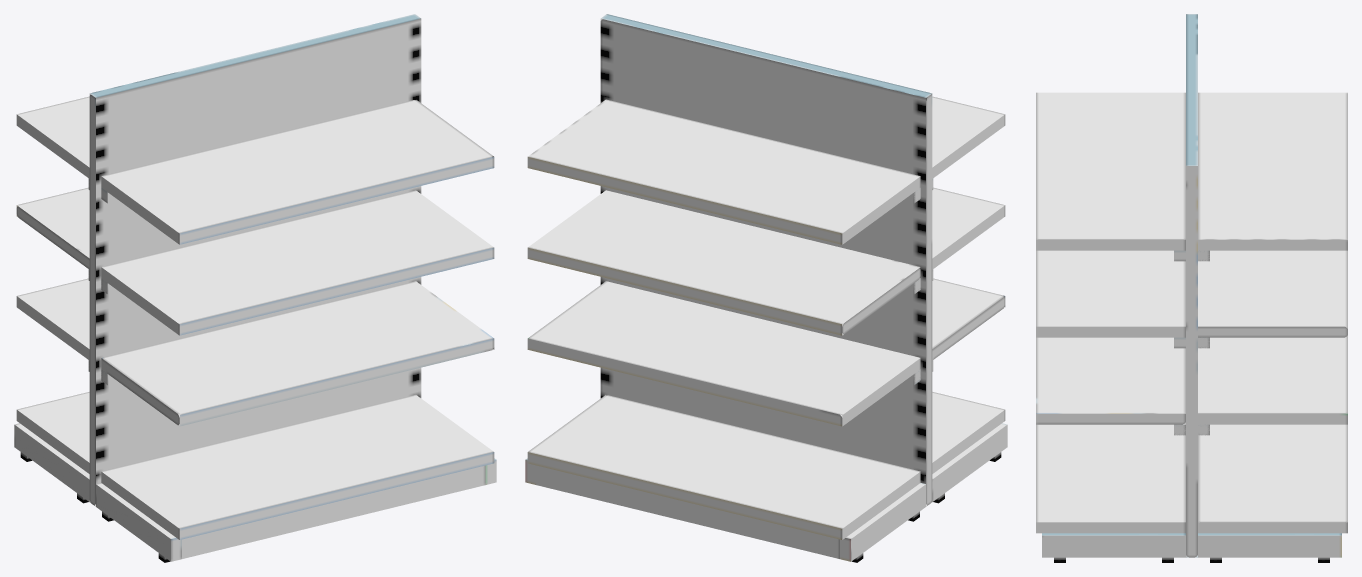
File: shop_regal.fbx
3 renders of one model, left to right at view 1: azimuth 30°, elevation 25°; view 2: azimuth 150°, elevation 25°; view 3: azimuth 270°, elevation 25°, orthographic. The views are drawn at different scales.
Parts seen in each view (by area): view 1: cube, cube_9, cube_10, cube_11, cube_12, cube_8, cube_6, cube_4, cube_5, cube_3, cube_13, cube_2; view 2: cube, cube_6, cube_3, cube_4, cube_5, cube_7, cube_9, cube_11, cube_10, cube_12, cube_2, cube_13; view 3: cube_6, cube_9, cube_4, cube_11, cube_3, cube_5, cube_10, cube_12, cube, cube_14, cube_27.
Part boxes in pixels (box(x1,y1,x2,y2)): cube: box(89, 14, 421, 506); cube_9: box(101, 99, 494, 244); cube_10: box(101, 190, 494, 335); cube_11: box(101, 394, 494, 539); cube_12: box(101, 281, 494, 426); cube_8: box(182, 465, 485, 558); cube_6: box(16, 96, 89, 178); cube_4: box(16, 392, 89, 473); cube_5: box(16, 187, 89, 269); cube_3: box(16, 278, 89, 360); cube_13: box(96, 483, 181, 561); cube_2: box(14, 423, 89, 501); cube: box(600, 14, 932, 506); cube_6: box(527, 99, 920, 244); cube_3: box(527, 281, 920, 426); cube_4: box(527, 395, 920, 539); cube_5: box(527, 190, 920, 335); cube_7: box(536, 465, 839, 558); cube_9: box(932, 96, 1005, 178); cube_11: box(932, 392, 1005, 473); cube_10: box(932, 187, 1005, 269); cube_12: box(932, 278, 1005, 360); cube_2: box(840, 483, 925, 561); cube_13: box(932, 423, 1007, 501); cube_6: box(1198, 92, 1347, 250); cube_9: box(1036, 92, 1185, 250); cube_4: box(1198, 424, 1347, 533); cube_11: box(1036, 424, 1185, 533); cube_3: box(1198, 337, 1347, 424); cube_5: box(1198, 250, 1347, 337); cube_10: box(1036, 250, 1185, 337); cube_12: box(1036, 337, 1185, 424); cube: box(1186, 14, 1197, 557); cube_14: box(1042, 533, 1185, 557); cube_27: box(1198, 533, 1341, 557).
Size of the model in its own units: 188 by 228 by 162.
1 material, 1 textured.
